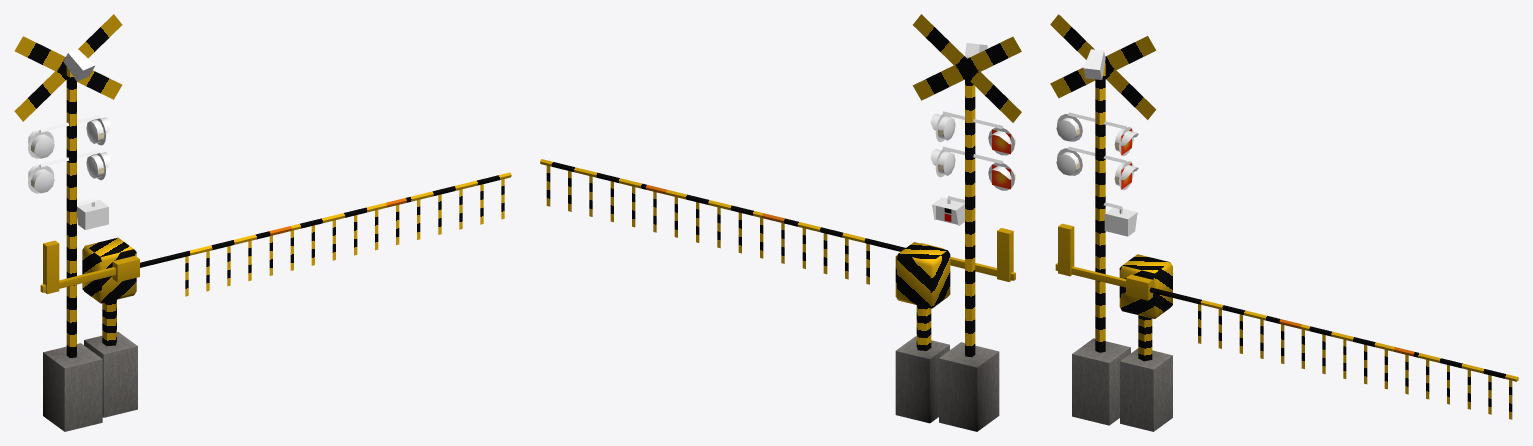
File: HUMIKIRI01_LEFTBAR.glb
3 views of the same model, side by side, from view 1: azimuth 30°, elevation 25°; view 2: azimuth 150°, elevation 25°; view 3: azimuth 330°, elevation 25° (orthographic). The views are drawn at different scales.
Parts seen in each view (by area): view 1: HUMIKIRI2, BAR2, OBI2; view 2: HUMIKIRI2, BAR2, OBI2; view 3: HUMIKIRI2, BAR2, OBI2.
Boxes of the visible parts, x1,y1,x2,y2 form: HUMIKIRI2: (14, 14, 137, 431); BAR2: (40, 172, 511, 294); OBI2: (185, 179, 504, 296); HUMIKIRI2: (895, 14, 1021, 431); BAR2: (540, 159, 1015, 281); OBI2: (546, 165, 869, 284); HUMIKIRI2: (1050, 14, 1172, 431); BAR2: (1055, 223, 1518, 381); OBI2: (1198, 304, 1512, 419).
Size of the model in its own units: 18.14 by 14.01 by 1.82.
Materials: 12 (12 with a texture image).
